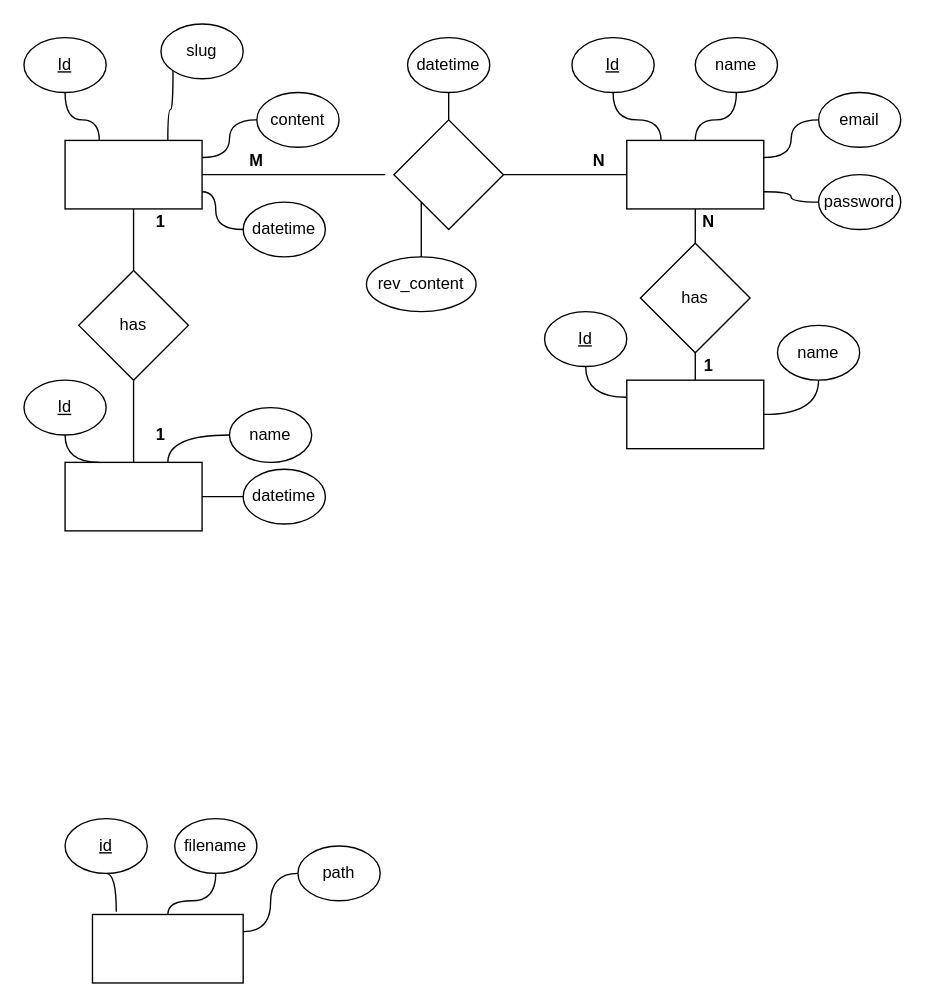
Some shapes in this 925 by 1007 pixel diagram are drawn without their labels. Here are the shapes that lost their labels. From the top down, the centre of each, then its label:
At (x=133, y=174): "Page".
At (x=448, y=174): "revision".
At (x=694, y=174): "User".
At (x=694, y=414): "Role".
At (x=133, y=496): "Tag".
At (x=167, y=948): "images".
